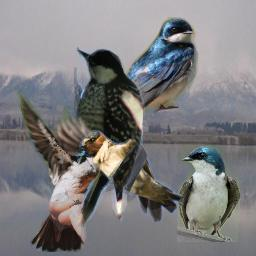Swallow: (14, 88, 113, 252), (86, 15, 199, 148), (79, 130, 184, 223), (177, 145, 240, 242)
Woodpecker: (74, 47, 145, 227)
